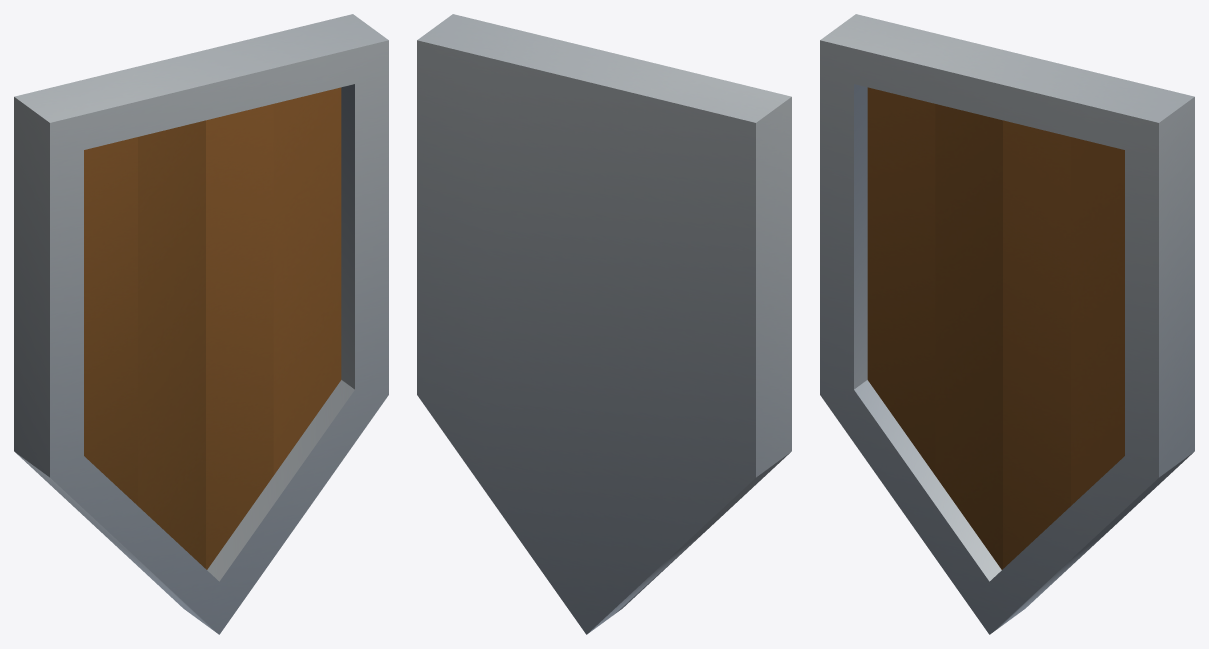
The model's file is Shield.fbx.
The picture shows the model from 3 angles, left to right: view 1: azimuth 30°, elevation 25°; view 2: azimuth 150°, elevation 25°; view 3: azimuth 330°, elevation 25°; orthographic projection.
Parts seen in each view (by area): view 1: Shield; view 2: Shield; view 3: Shield.
Boxes of the visible parts, x1,y1,x2,y2 form: Shield: [14, 14, 388, 634]; Shield: [417, 14, 791, 634]; Shield: [820, 14, 1194, 634].
Bounding box in the file's own units: 0.6739 × 1.05 × 0.1236.
1 material, 1 textured.
